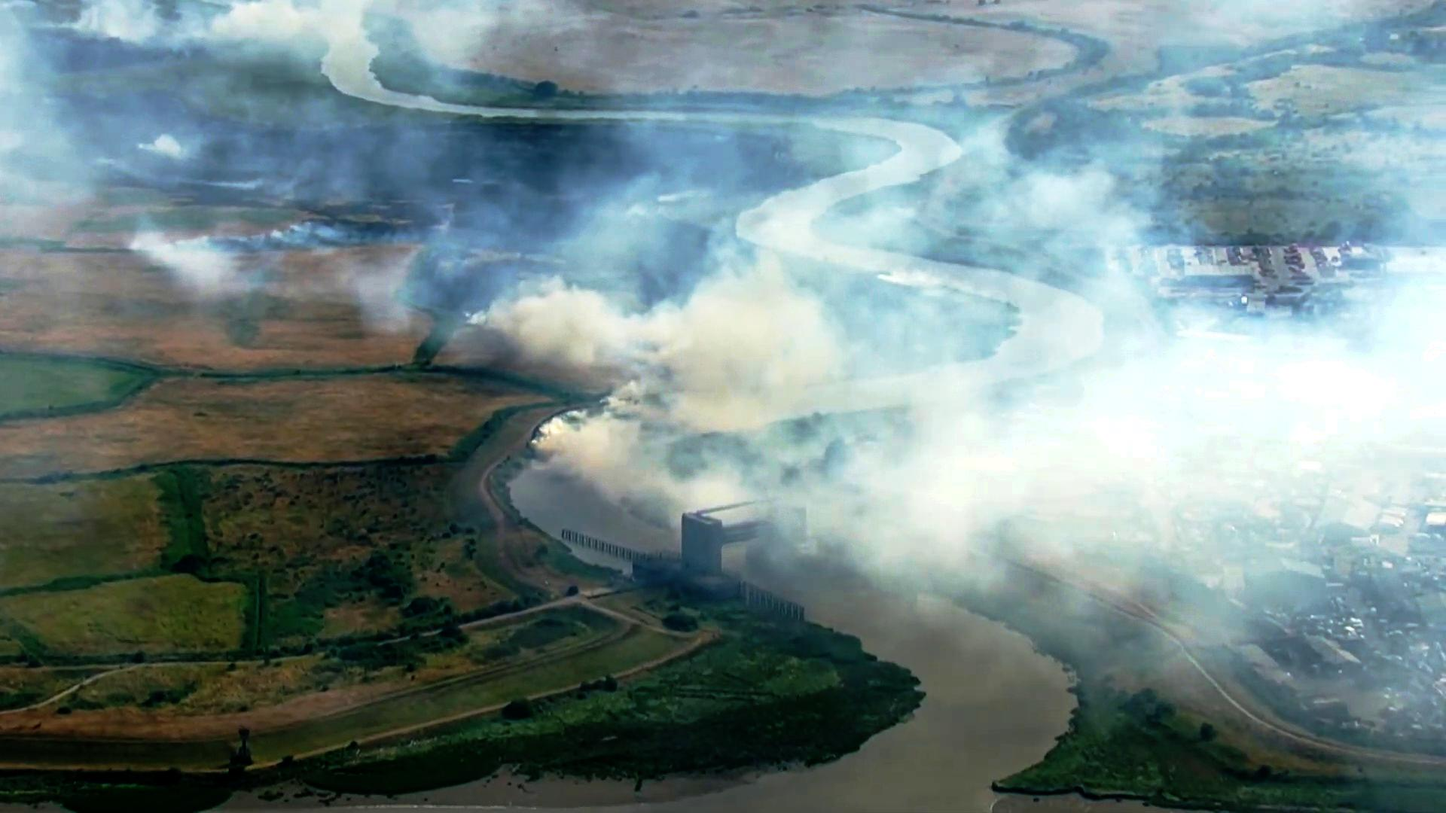smoke: (620, 262, 810, 375), (496, 288, 639, 374)
